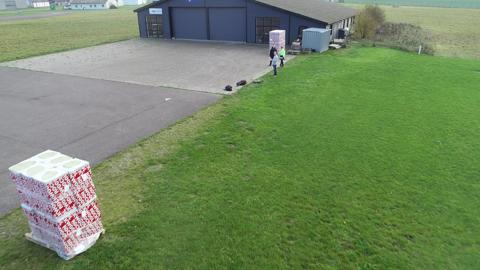RockwoolPallet: (8, 148, 105, 258)
